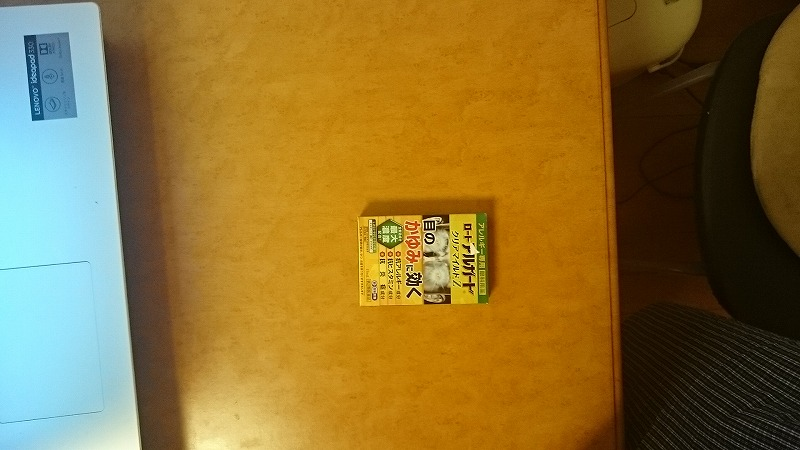C: (355, 210, 494, 314)
